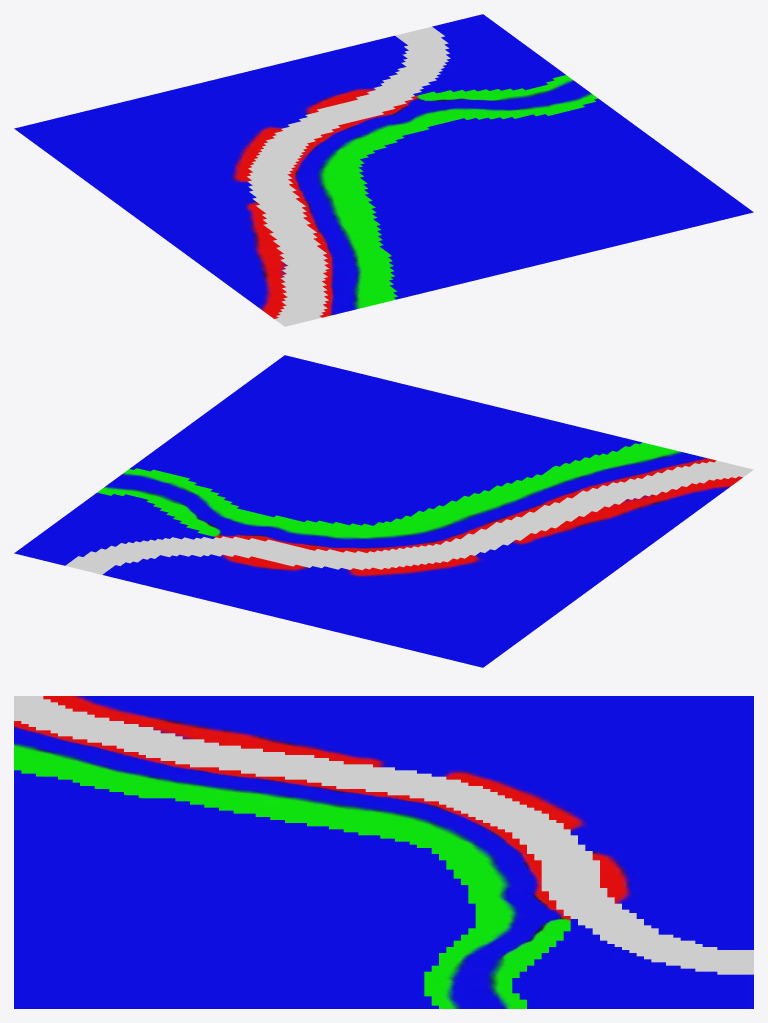
The model's file is riverside.glb.
3 views of the same model, one above another, from view 1: azimuth 30°, elevation 25°; view 2: azimuth 150°, elevation 25°; view 3: azimuth 270°, elevation 25° (orthographic). The views are drawn at different scales.
Parts seen in each view (by area): view 1: riverside_terrain, riverside_path, riverside_river; view 2: riverside_terrain, riverside_path, riverside_river; view 3: riverside_terrain, riverside_path, riverside_river.
Boxes of the visible parts, x1,y1,x2,y2 form: riverside_terrain: (14, 14, 753, 318); riverside_path: (287, 75, 597, 317); riverside_river: (247, 26, 450, 326); riverside_terrain: (14, 355, 742, 667); riverside_path: (97, 442, 716, 552); riverside_river: (65, 460, 753, 574); riverside_terrain: (14, 696, 753, 1008); riverside_path: (14, 721, 570, 1008); riverside_river: (14, 696, 753, 974).
Bounding box in the file's own units: 100 × 0 × 100.
Materials: 2 (2 with a texture image).
